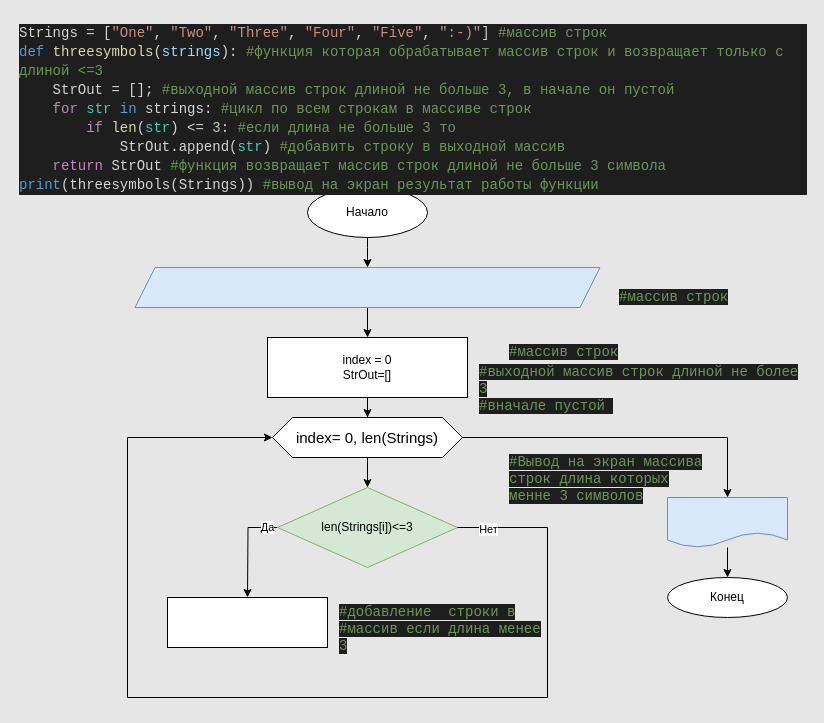
The diagram is 824 pixels wide and 723 high, and some of its shapes have lost their labels. Each missing label, with the centre of its shape:
print(StrOut): the point at 727,522
Strings = [ "One" , "Two" , "Three" , "Four" , "Five" , ":-)" ]: the point at 367,287
StrOut.append(Strings[i]): the point at 247,622
